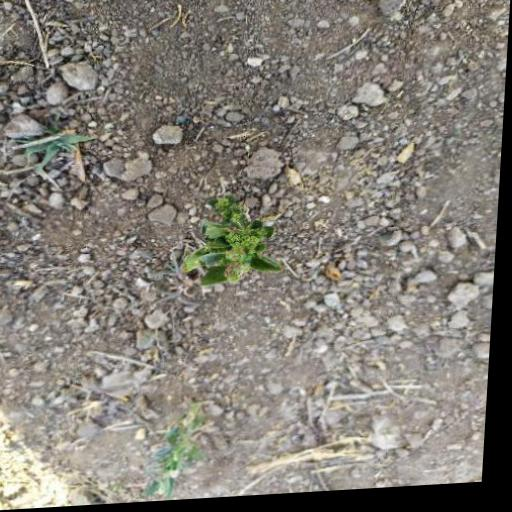weed: (177, 197, 302, 318)
